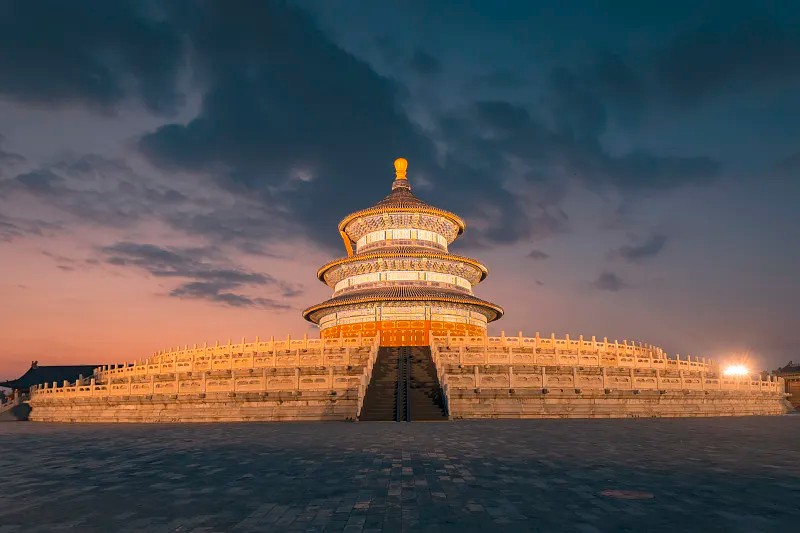Heaven: (302, 157, 505, 346)
